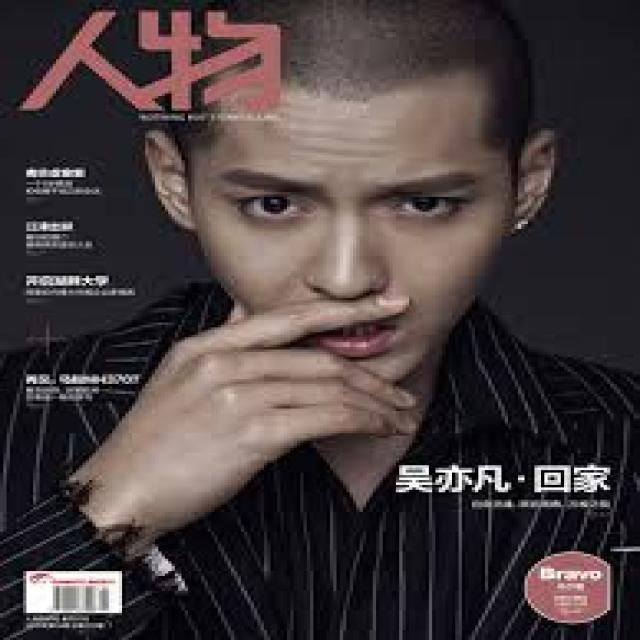Newspaper: (3, 11, 640, 640)
